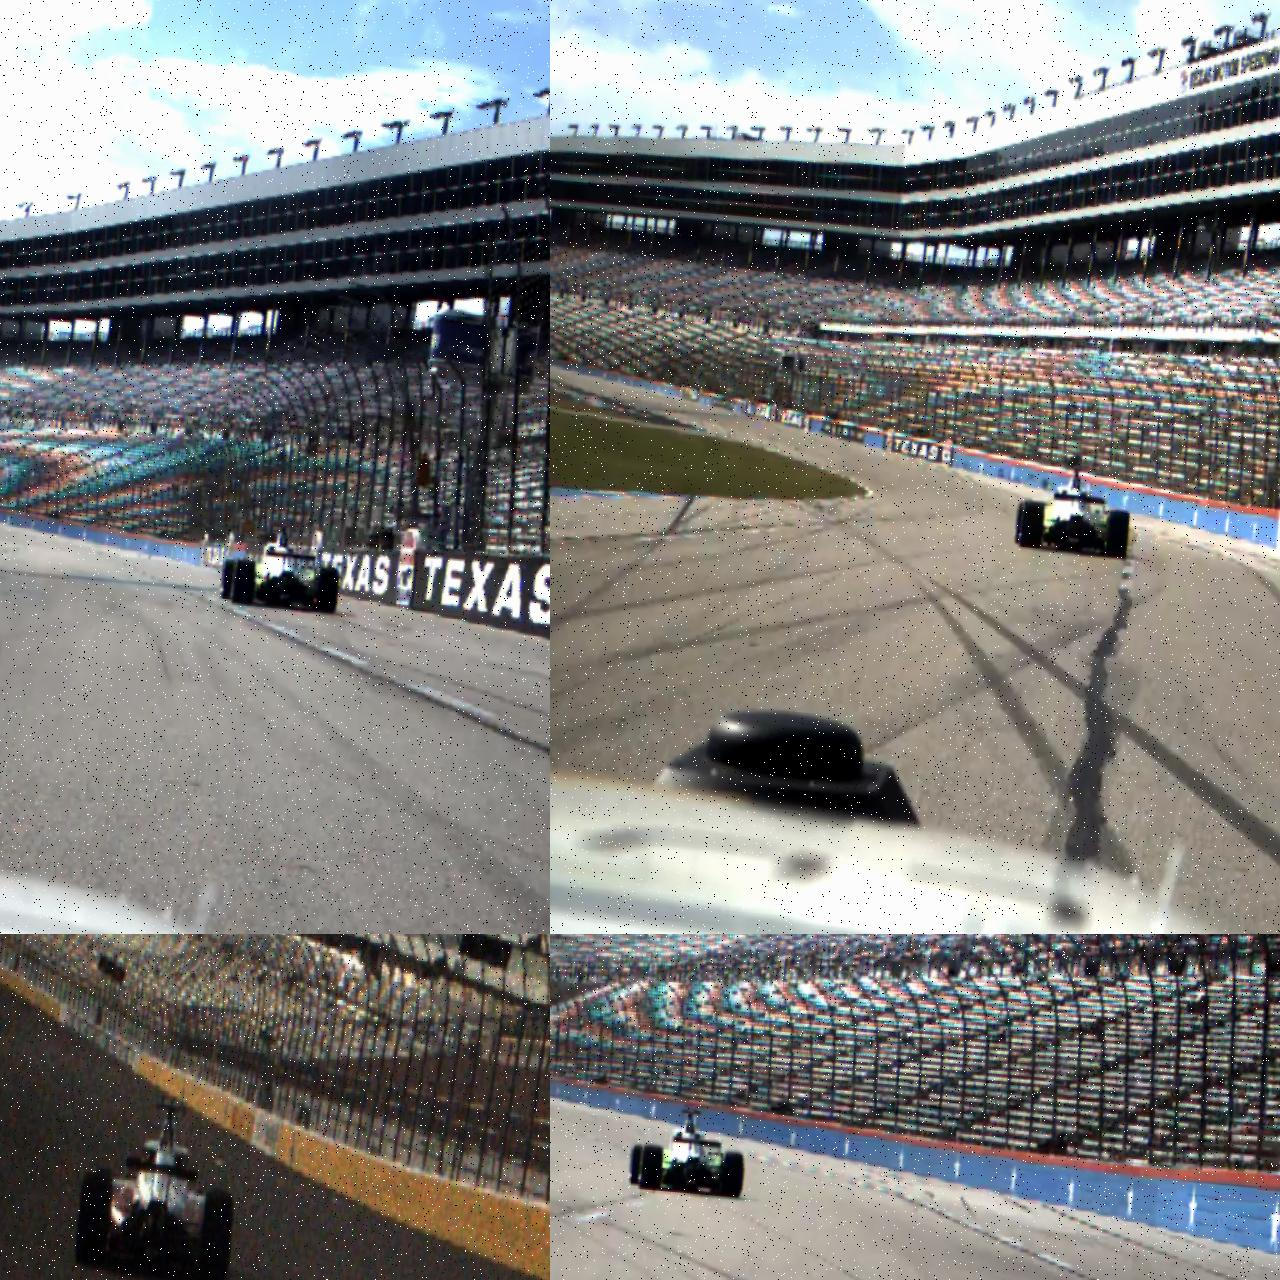AV: (71, 1095, 243, 1280), (1014, 449, 1136, 559), (219, 518, 344, 614), (627, 1104, 749, 1198)
Wheel: (74, 1170, 114, 1270), (197, 1190, 236, 1280), (1019, 500, 1046, 550), (230, 558, 258, 606), (720, 1150, 746, 1198), (1106, 509, 1130, 558), (640, 1144, 664, 1190), (317, 567, 340, 614), (1014, 497, 1036, 545), (220, 558, 243, 600), (628, 1144, 646, 1186)
